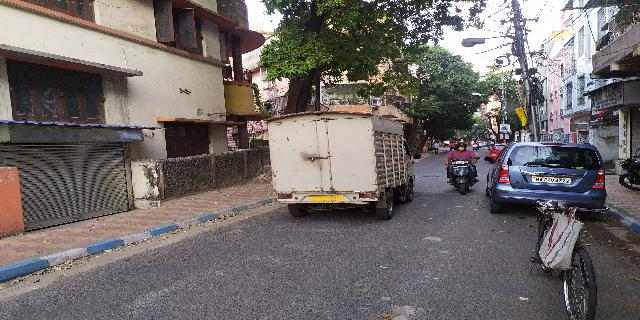Car: (484, 139, 611, 224)
Cycle: (523, 195, 604, 320)
Minitruck: (263, 107, 418, 221)
Motorbike: (445, 136, 480, 197)
